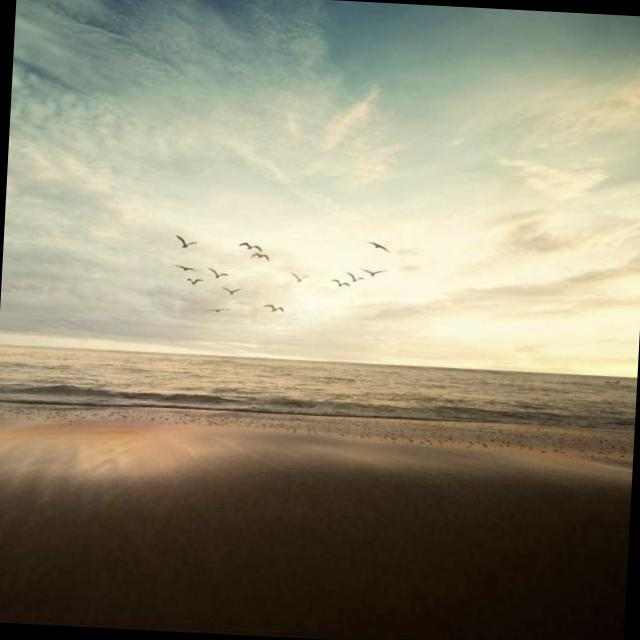bird: (168, 254, 206, 280), (167, 226, 200, 255), (202, 251, 234, 280), (178, 268, 203, 302), (364, 229, 396, 254), (290, 261, 314, 293), (256, 294, 292, 314), (357, 255, 387, 278), (220, 275, 252, 295), (208, 300, 232, 323), (241, 232, 263, 252), (328, 272, 350, 292), (248, 250, 271, 268)
